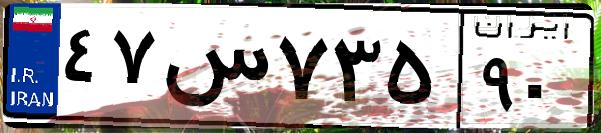0: (525, 38, 570, 115)
3: (330, 28, 385, 110)
4: (57, 26, 110, 100)
5: (385, 28, 445, 110)
7: (270, 28, 330, 110), (110, 28, 158, 98)
9: (475, 38, 525, 113)
س: (158, 20, 270, 120)
